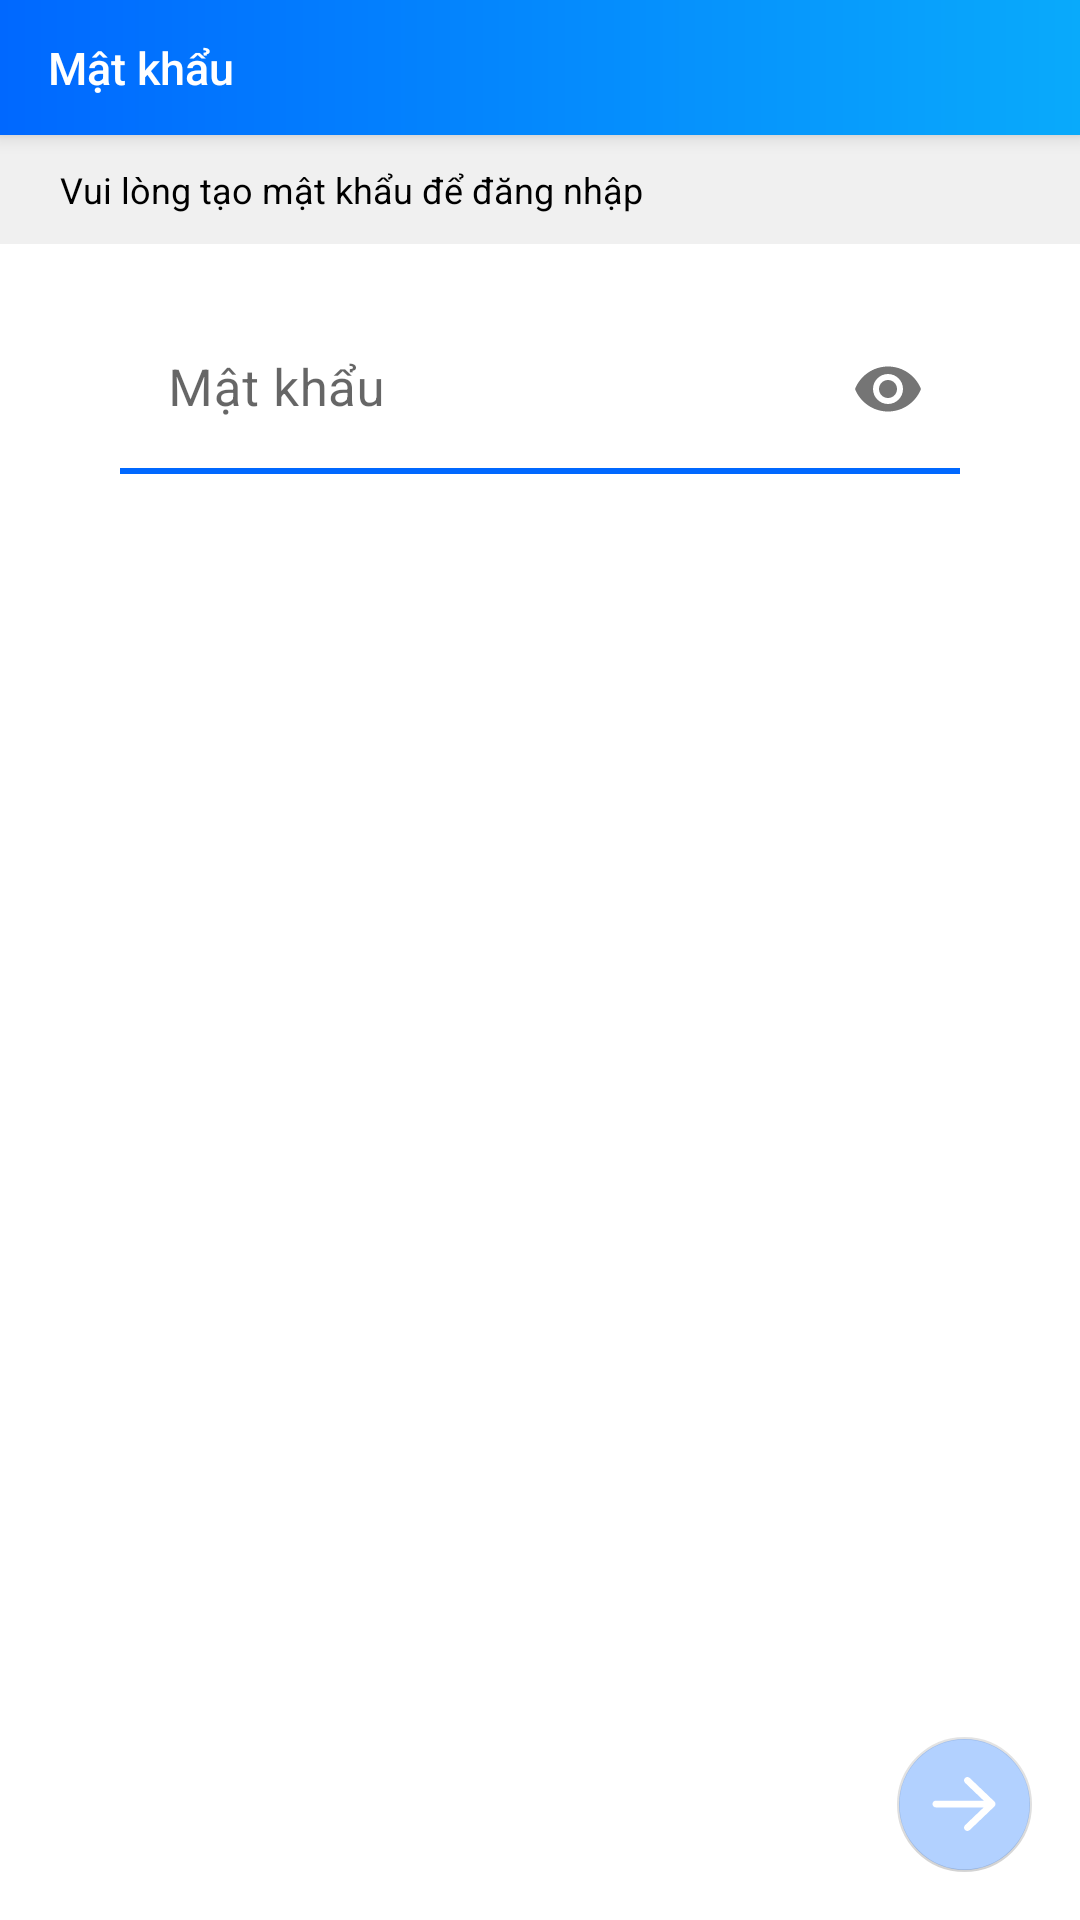

Icons on this 1080 x 1920 Android screen, each with its box as bbox(x1, y1, x2, y2):
arrow right: bbox(897, 1737, 1032, 1872)
